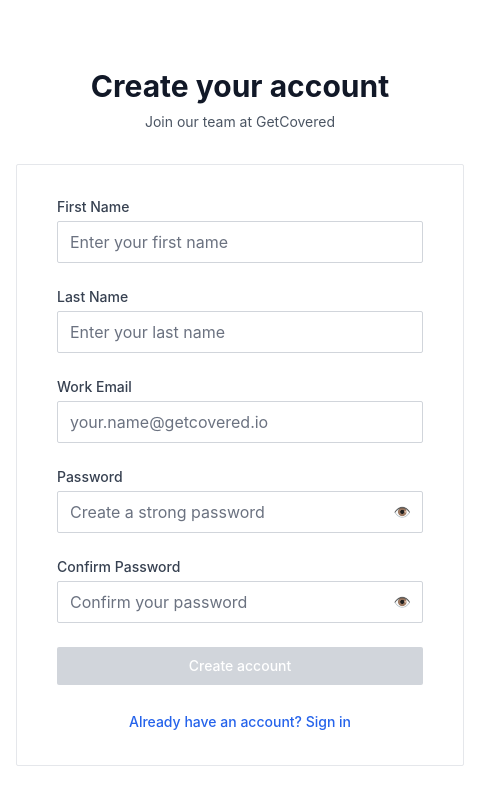
RegistrationForm › shows loading state during form submission
Fill in valid form data
Type "John" into the field labelled "First Name" at (240, 242), box [57, 221, 423, 263]
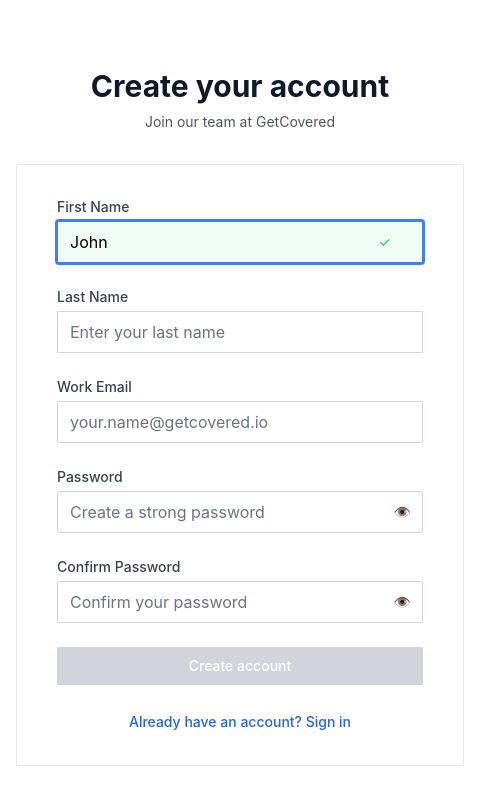
Type "Doe" into the field labelled "Last Name" at (240, 332), box [57, 311, 423, 353]
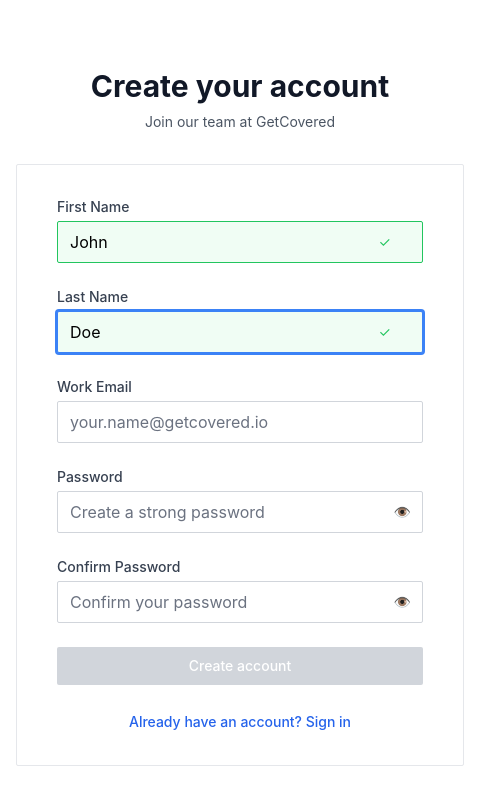
Type "john.doe@getcovered.io" into the field labelled "Work Email" at (240, 422), box [57, 401, 423, 443]
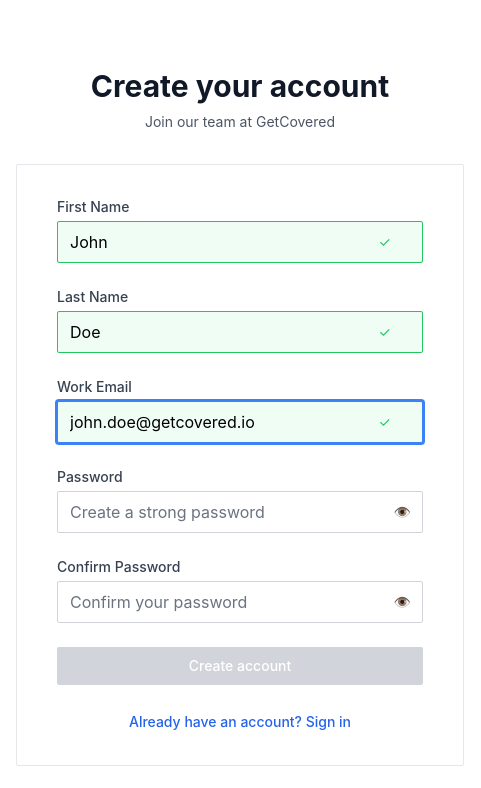
Type "StrongPassword123!@#" into the password field labelled "Password" at (240, 512), box [57, 491, 423, 533]
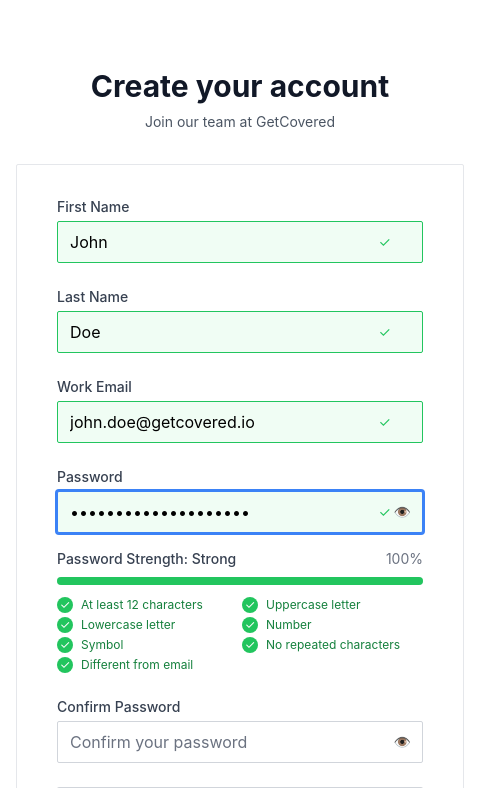
Type "StrongPassword123!@#" into the password field labelled "Confirm Password" at (240, 742), box [57, 721, 423, 763]
(page scrolled)
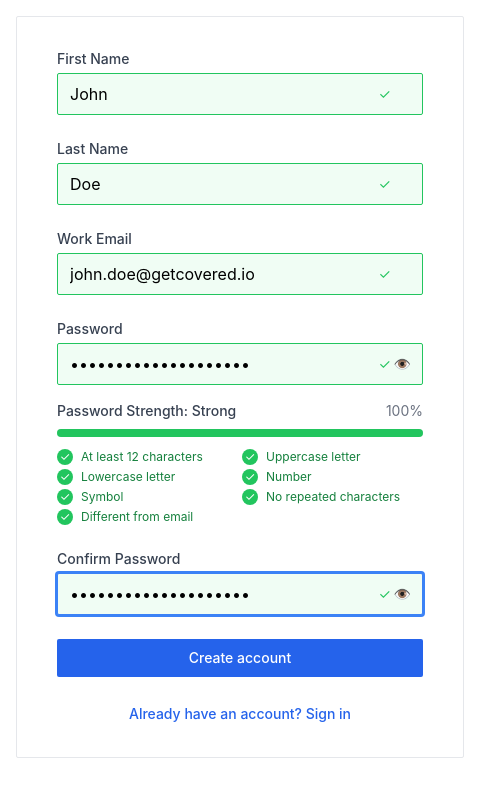
Submit form
Click the button "Create account" at (240, 658), box [57, 639, 423, 677]
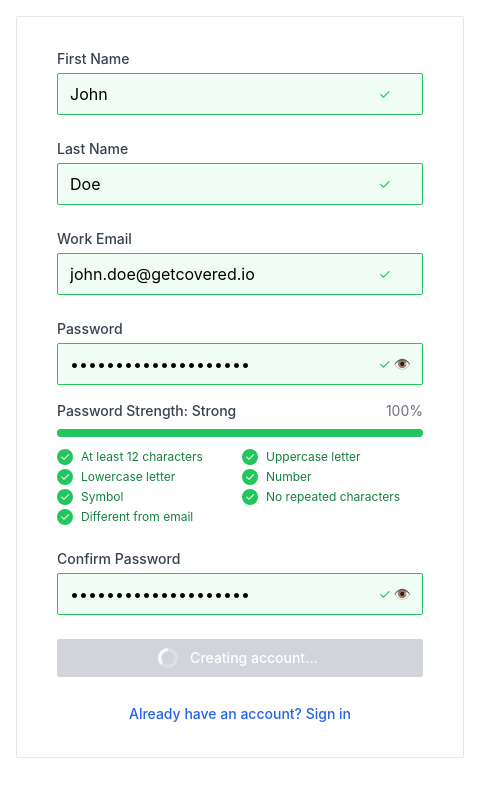
Result: the button labelled "Creating account..." is disabled at [57, 639, 423, 677]
